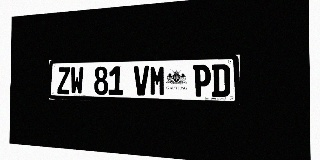1: (108, 66, 123, 95)
8: (94, 66, 108, 95)
D: (211, 64, 230, 97)
M: (150, 65, 166, 96)
P: (193, 64, 211, 97)
V: (134, 66, 149, 96)
W: (70, 67, 84, 94)
Z: (57, 67, 70, 94)
